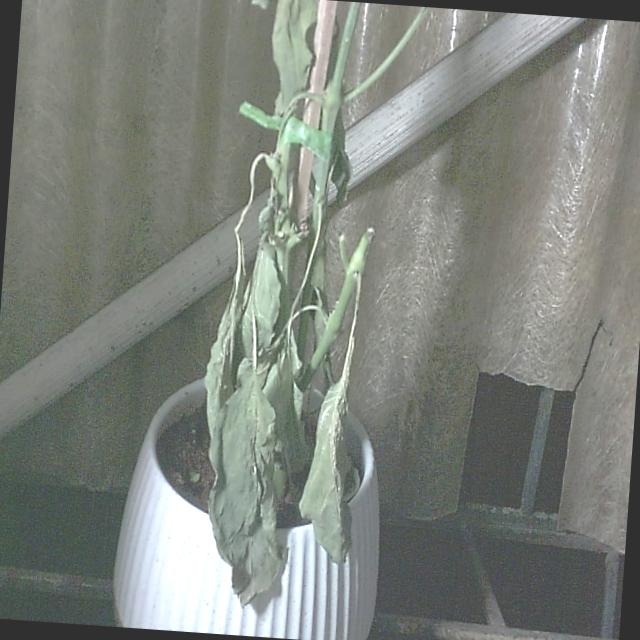Leaf: (199, 372, 297, 610), (295, 376, 364, 562)
